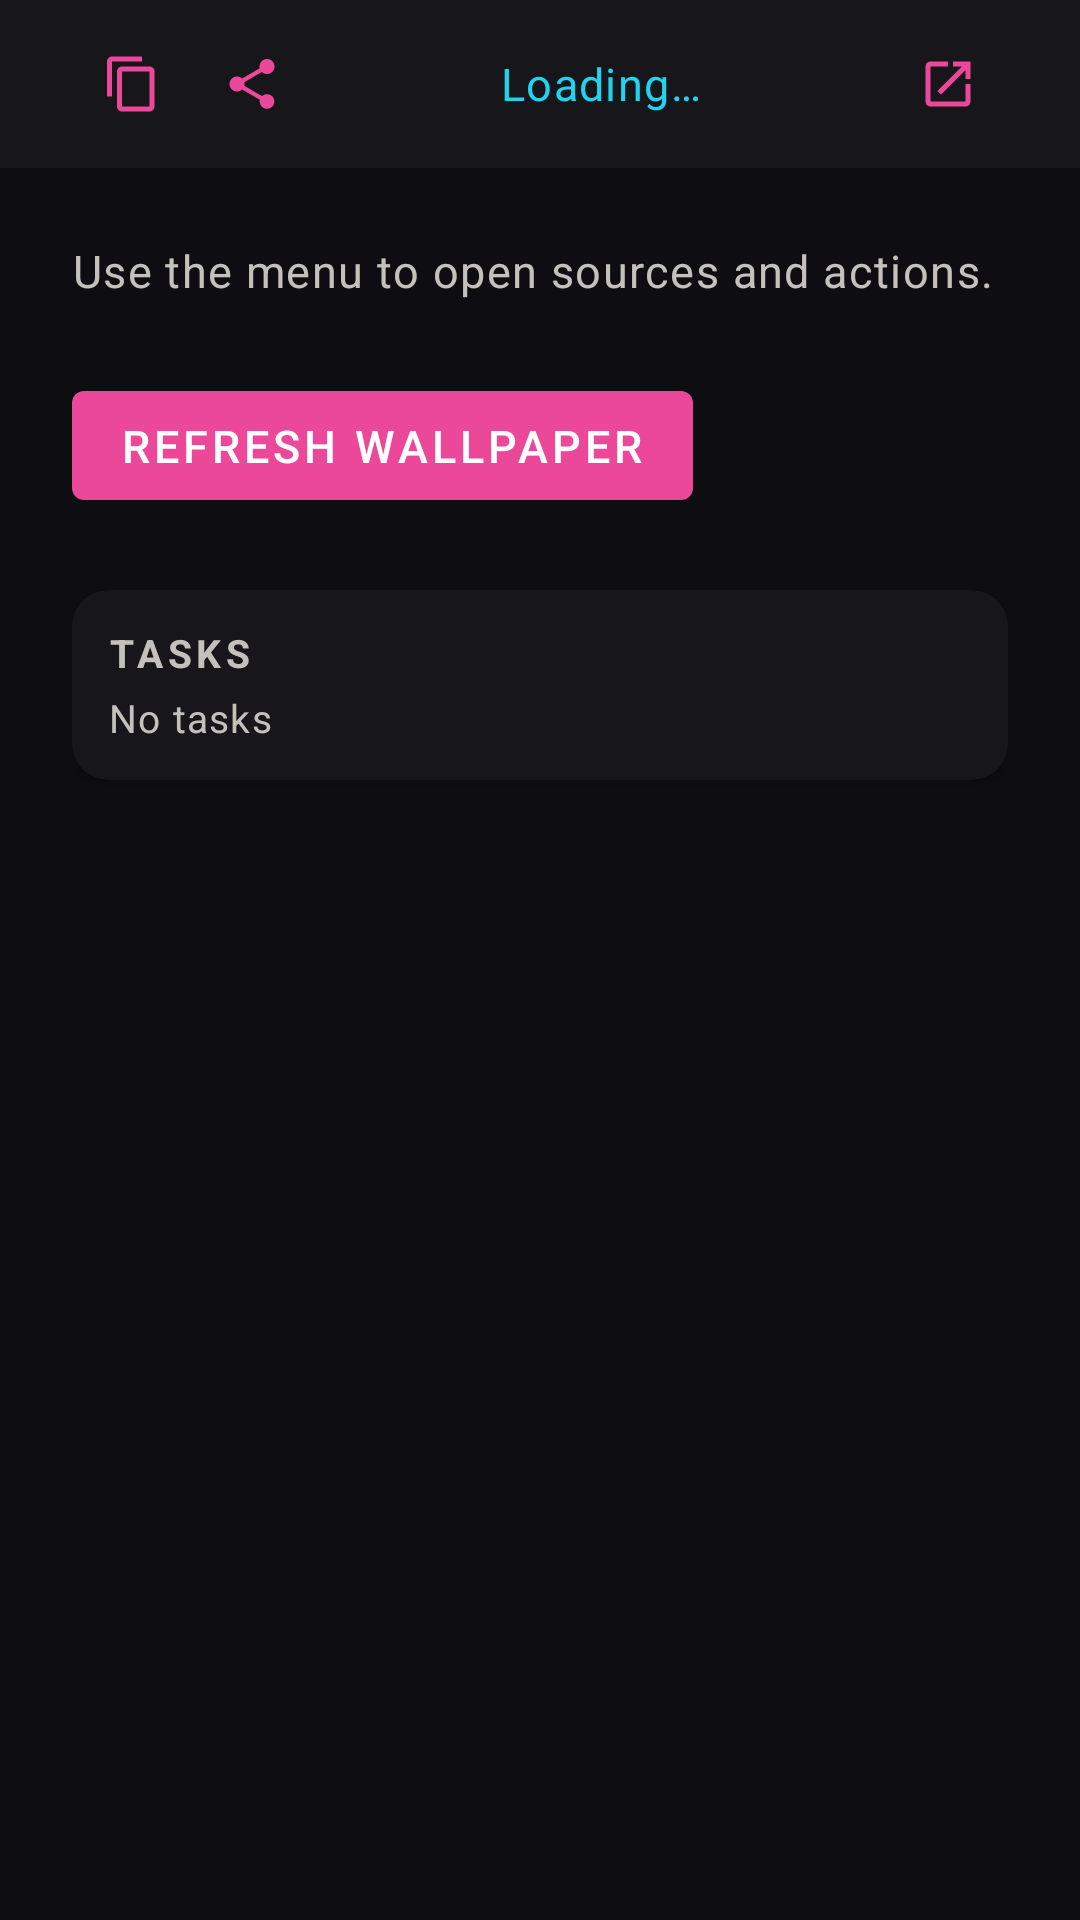

Locate icon controls on the screen. Image size 1080 × 1920, boxes as (x1, y1, x2, y2).
Copy: (107, 56, 155, 112)
Share: (229, 59, 275, 109)
